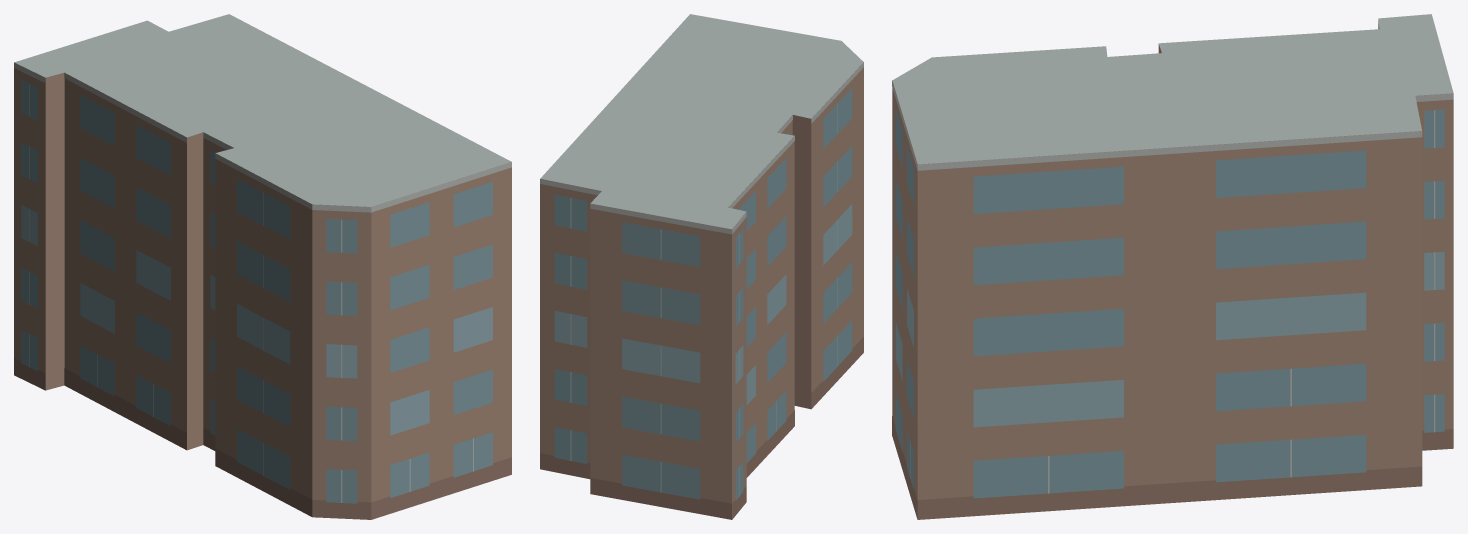
File: survey-upis-32532999.glb
The picture shows the model from 3 angles, left to right: view 1: azimuth 30°, elevation 25°; view 2: azimuth 150°, elevation 25°; view 3: azimuth 270°, elevation 25°; orthographic projection. The views are drawn at different scales.
Visible parts, largest first — view 1: survey-upis-32532999.tmp; view 2: survey-upis-32532999.tmp; view 3: survey-upis-32532999.tmp.
Boxes of the visible parts, x1,y1,x2,y2 form: survey-upis-32532999.tmp: (14,14,511,519); survey-upis-32532999.tmp: (540,14,863,519); survey-upis-32532999.tmp: (892,14,1453,519).
Size of the model in its own units: 12.45 by 13.7 by 19.62.
